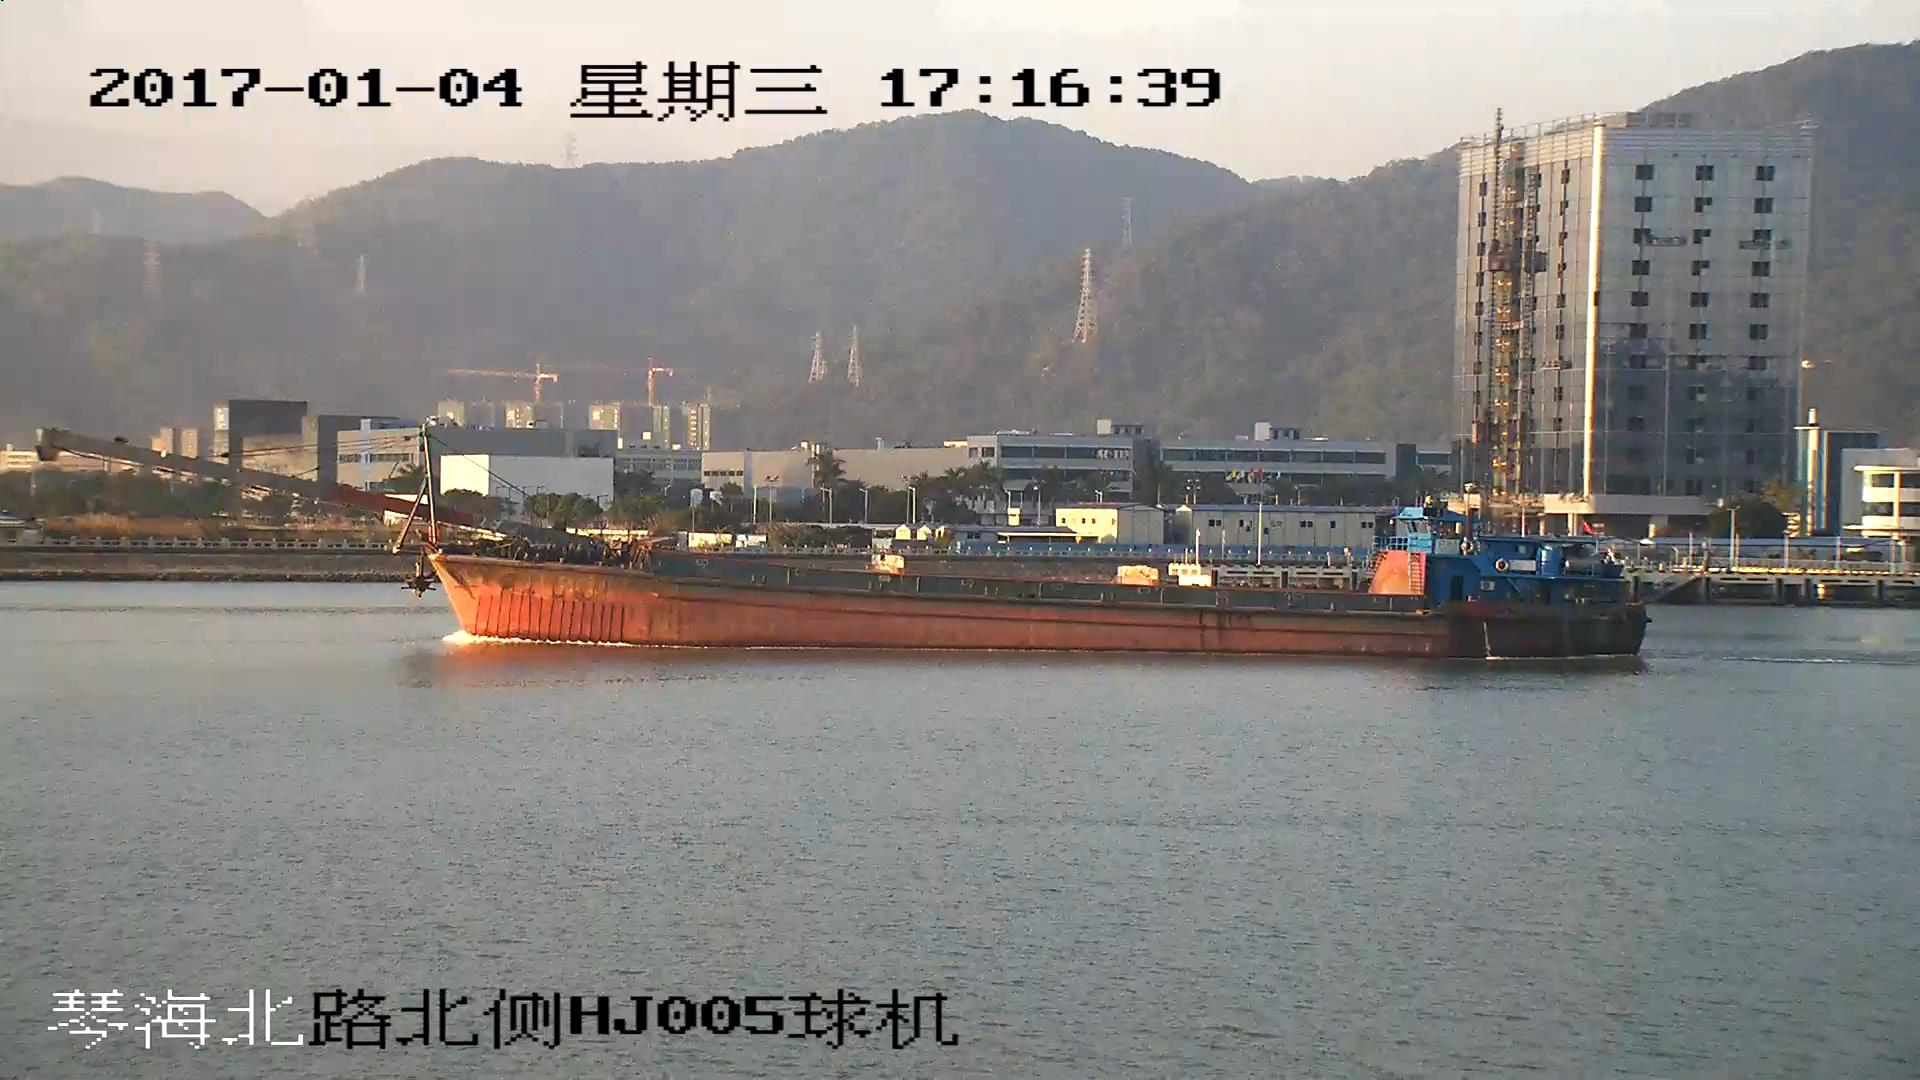bulk cargo carrier: (41, 427, 1649, 660)
